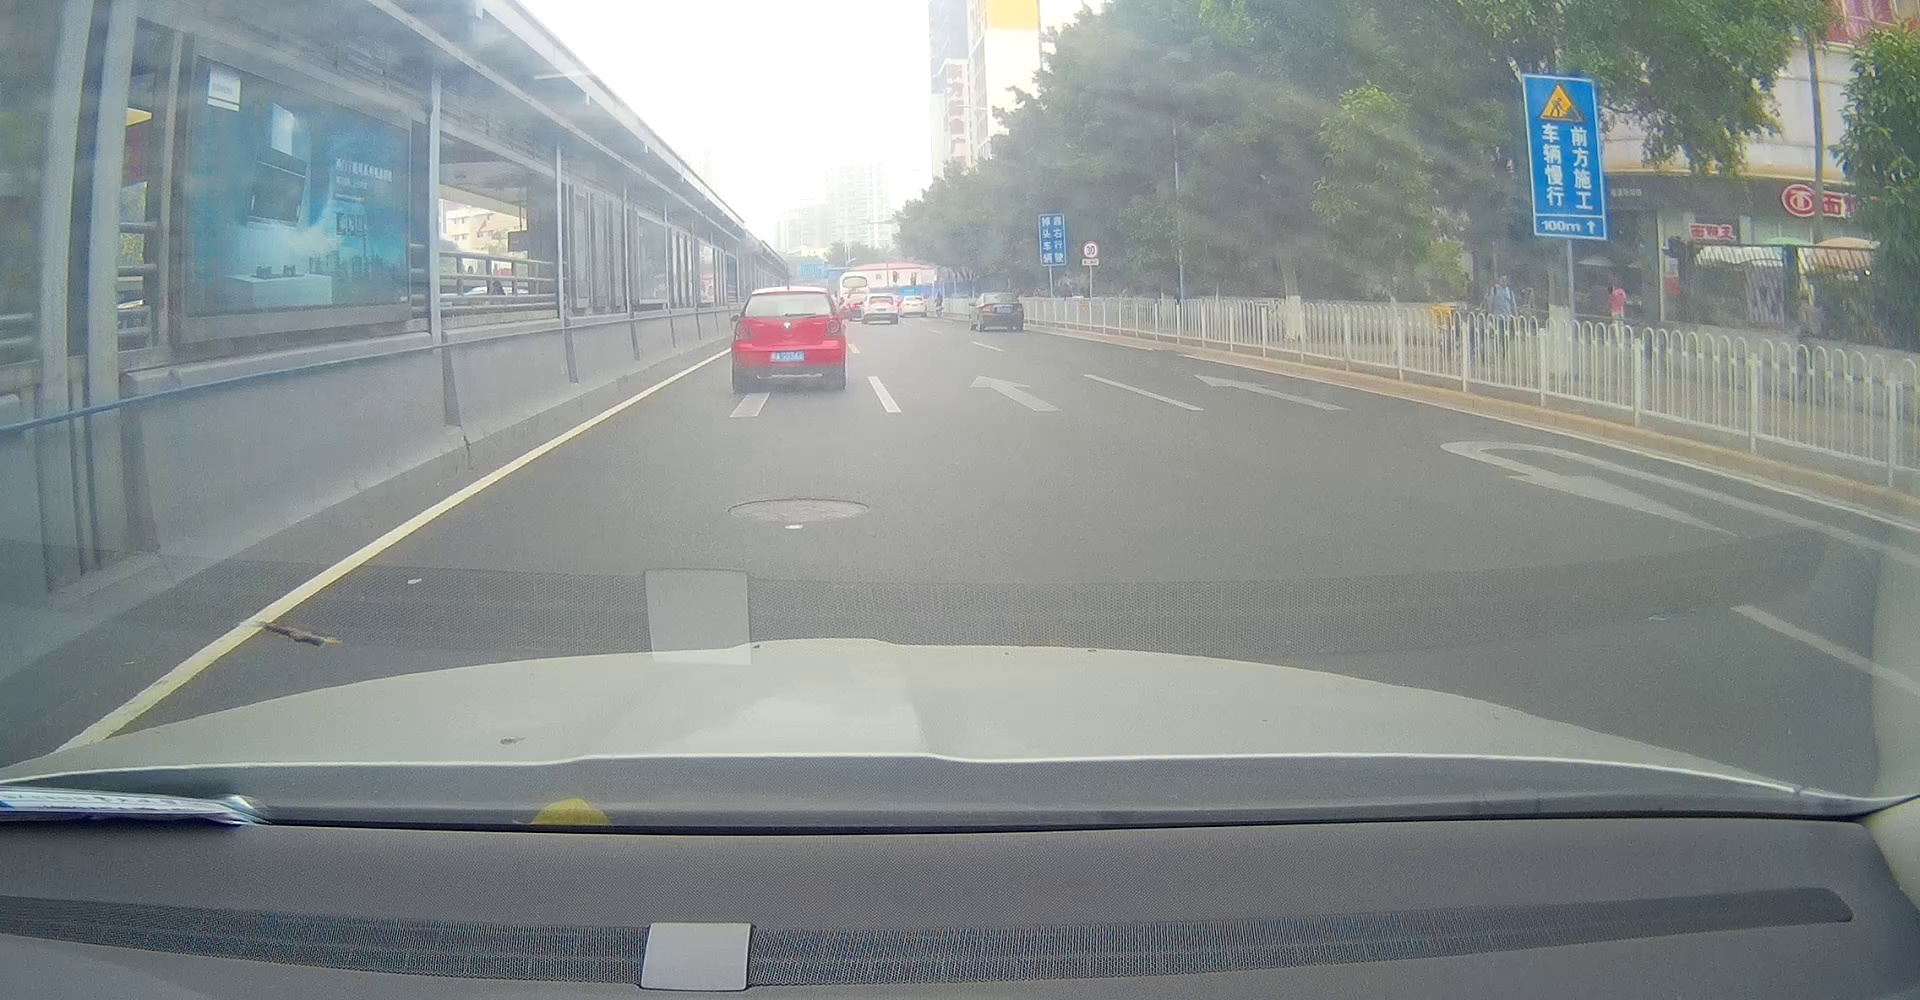L_light: (733, 321, 753, 341)
R_light: (822, 317, 843, 338)
T_light: (780, 292, 797, 298)
day-no: (730, 287, 847, 392)
